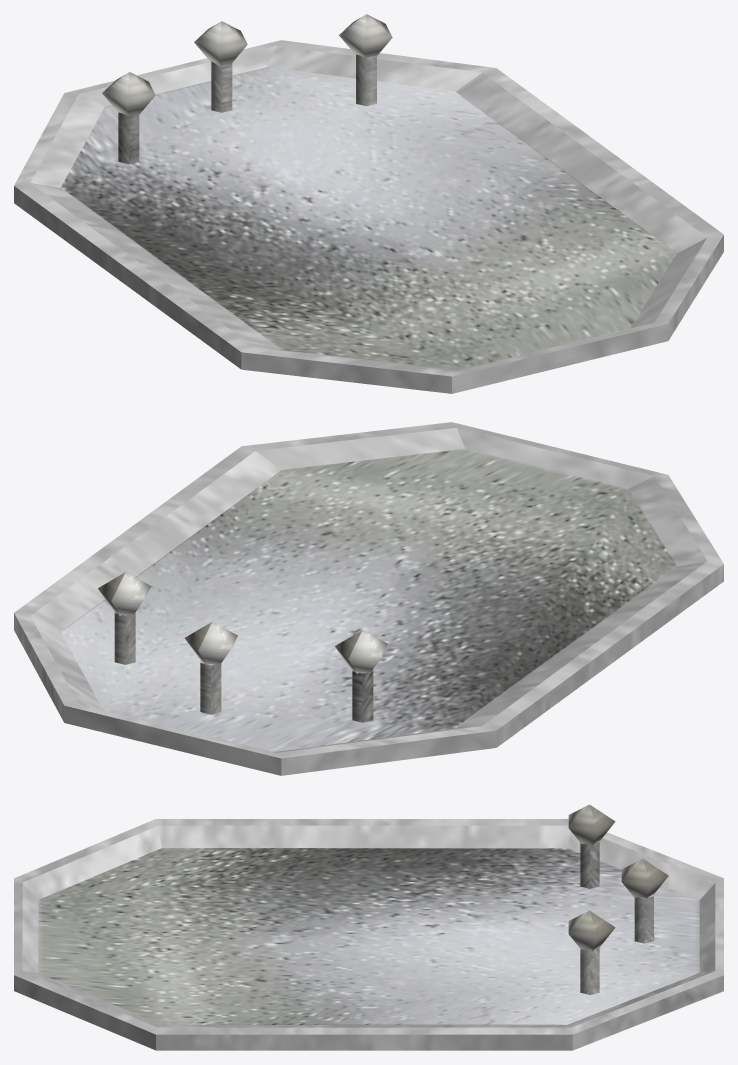
Rendered from mirror.FBX.
3 views of the same model, one above another, from view 1: azimuth 30°, elevation 25°; view 2: azimuth 150°, elevation 25°; view 3: azimuth 270°, elevation 25° (orthographic). The views are drawn at different scales.
Parts seen in each view (by area): view 1: Object001, Box001, Cylinder001, Sphere003, Sphere001, Sphere002; view 2: Object001, Box001, Cylinder001, Sphere003, Sphere002, Sphere001; view 3: Object001, Box001, Cylinder001, Sphere001, Sphere002, Sphere003.
Boxes of the visible parts, <box> form: Object001: <box>61,67,676,370</box>; Box001: <box>14,40,723,393</box>; Cylinder001: <box>118,54,376,164</box>; Sphere003: <box>194,21,247,66</box>; Sphere001: <box>102,72,155,115</box>; Sphere002: <box>339,14,392,58</box>; Object001: <box>61,449,676,751</box>; Box001: <box>14,422,723,775</box>; Cylinder001: <box>114,611,373,722</box>; Sphere003: <box>185,622,237,665</box>; Sphere002: <box>98,572,151,616</box>; Sphere001: <box>335,630,387,673</box>; Object001: <box>38,848,699,1024</box>; Box001: <box>14,819,723,1050</box>; Cylinder001: <box>580,840,653,994</box>; Sphere001: <box>568,804,615,845</box>; Sphere002: <box>568,910,615,951</box>; Sphere003: <box>621,858,668,898</box>.
Bounding box in the file's own units: 183 × 34.07 × 254.
4 materials, 4 textured.
